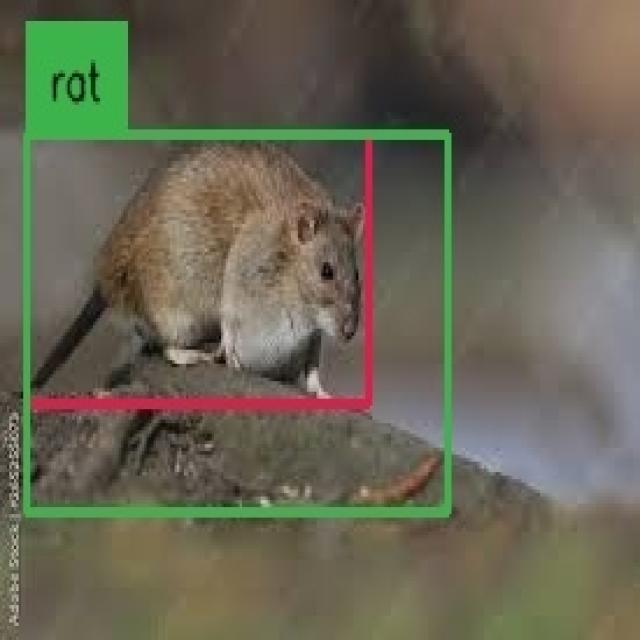rat: (26, 133, 447, 514), (27, 135, 369, 404)
